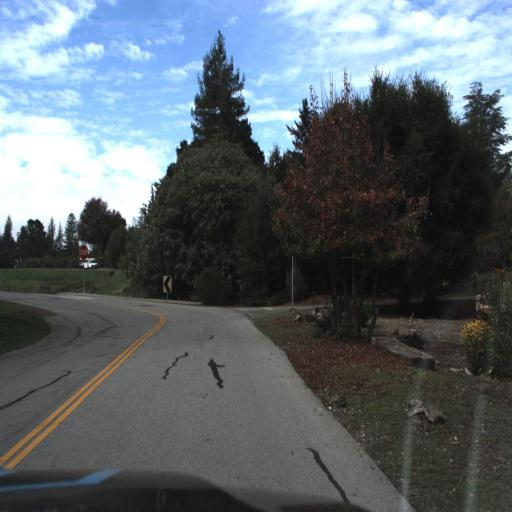car: (79, 254, 100, 272)
